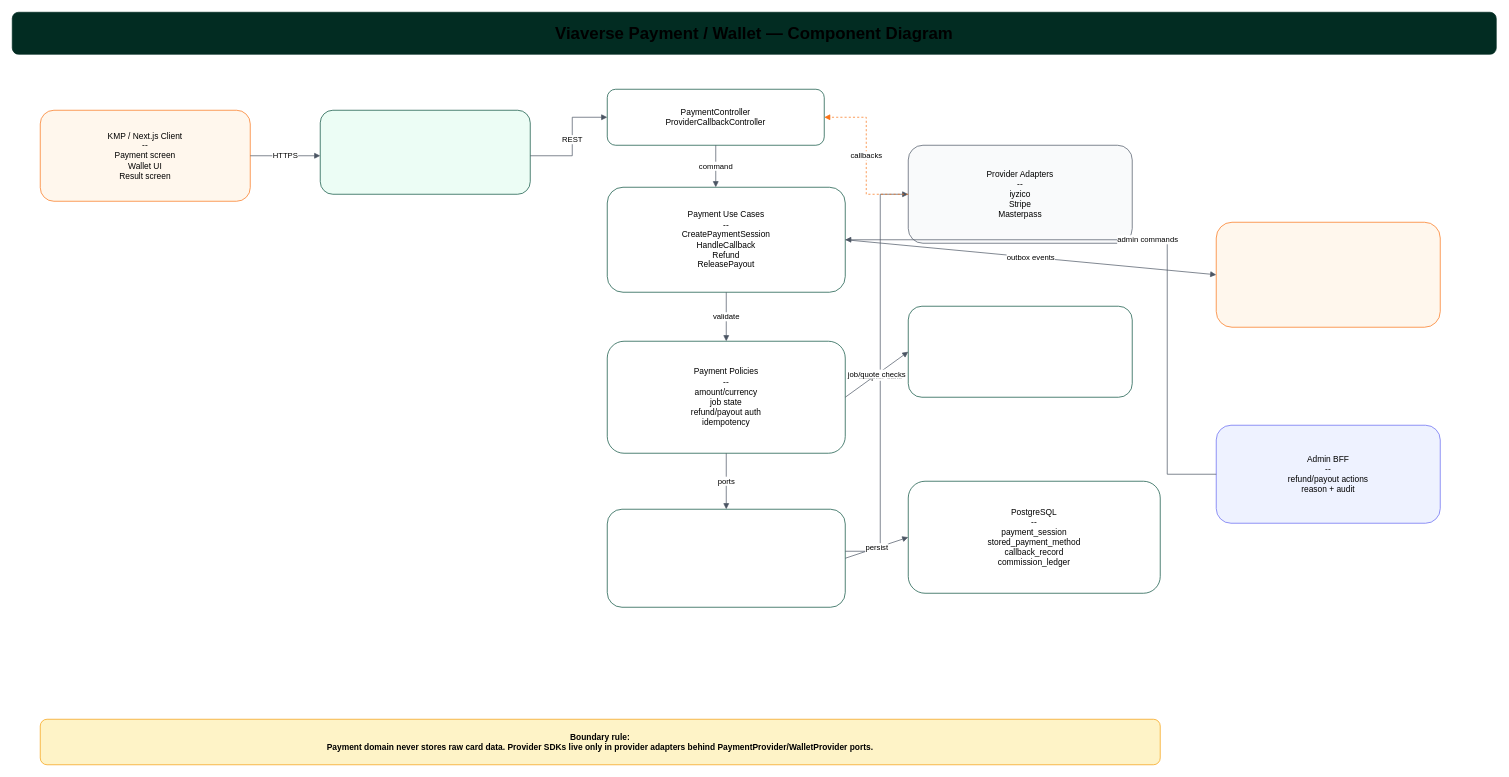
This 1509x777 diagram has some shape labels left out. The shapes that lost their labels are listed below. From the top down, each one's centre as x and y in pixels, then its label:
At [425,152]: "API Gateway / App BFF -- Payment API Wallet API".
At [1328,274]: "Kafka / Outbox -- PaymentAuthorized RefundIssued PayoutReleased".
At [1020,351]: "marketplace-service -- job/quote state payout block state".
At [726,558]: "Ports PaymentProvider WalletProvider PaymentRepo OutboxPort".
